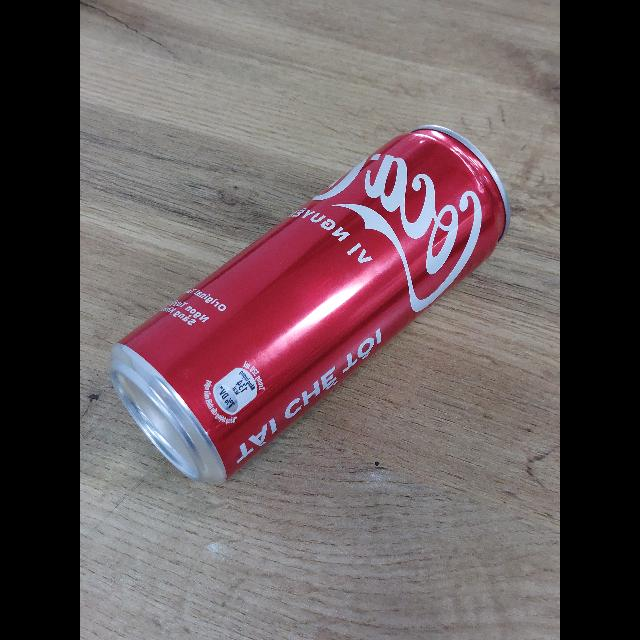coca_cola: (109, 125, 510, 485)
